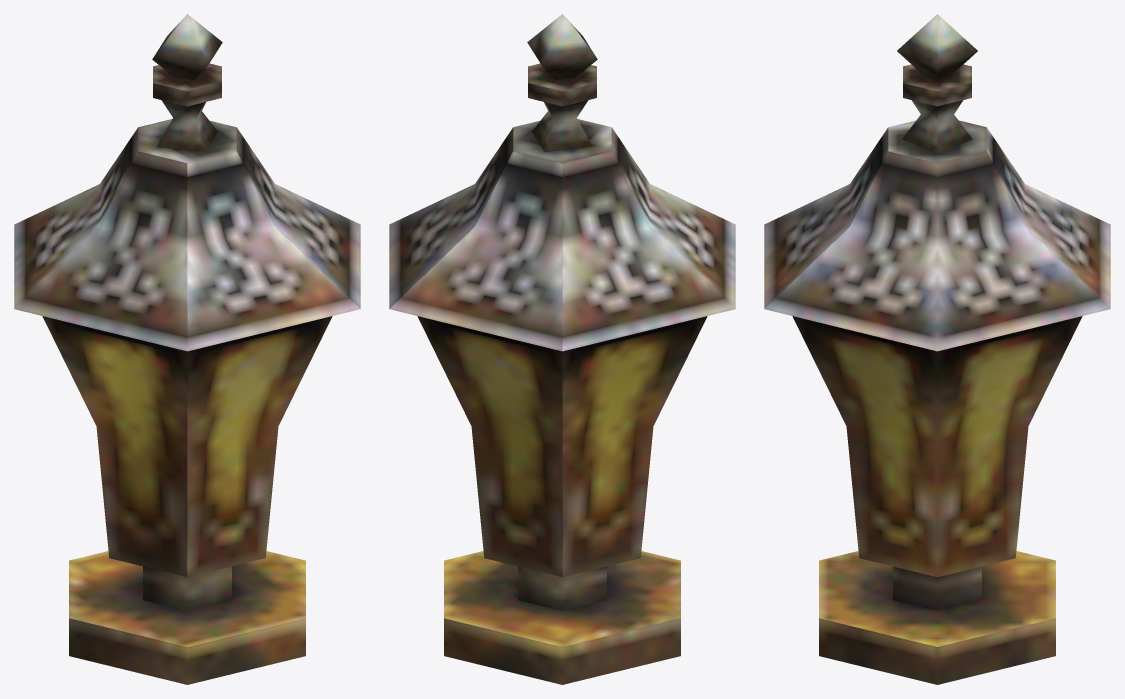
3 views of the same model, side by side, from view 1: azimuth 30°, elevation 25°; view 2: azimuth 150°, elevation 25°; view 3: azimuth 270°, elevation 25° (orthographic).
Parts seen in each view (by area): view 1: light_j_04; view 2: light_j_04; view 3: light_j_04.
Boxes of the visible parts, x1=… form: light_j_04: x1=14, y1=14, x2=360, y2=684; light_j_04: x1=389, y1=14, x2=735, y2=684; light_j_04: x1=764, y1=14, x2=1110, y2=684.
Size of the model in its own units: 0.00993 by 0.0168 by 0.0086.
1 material, 1 textured.
